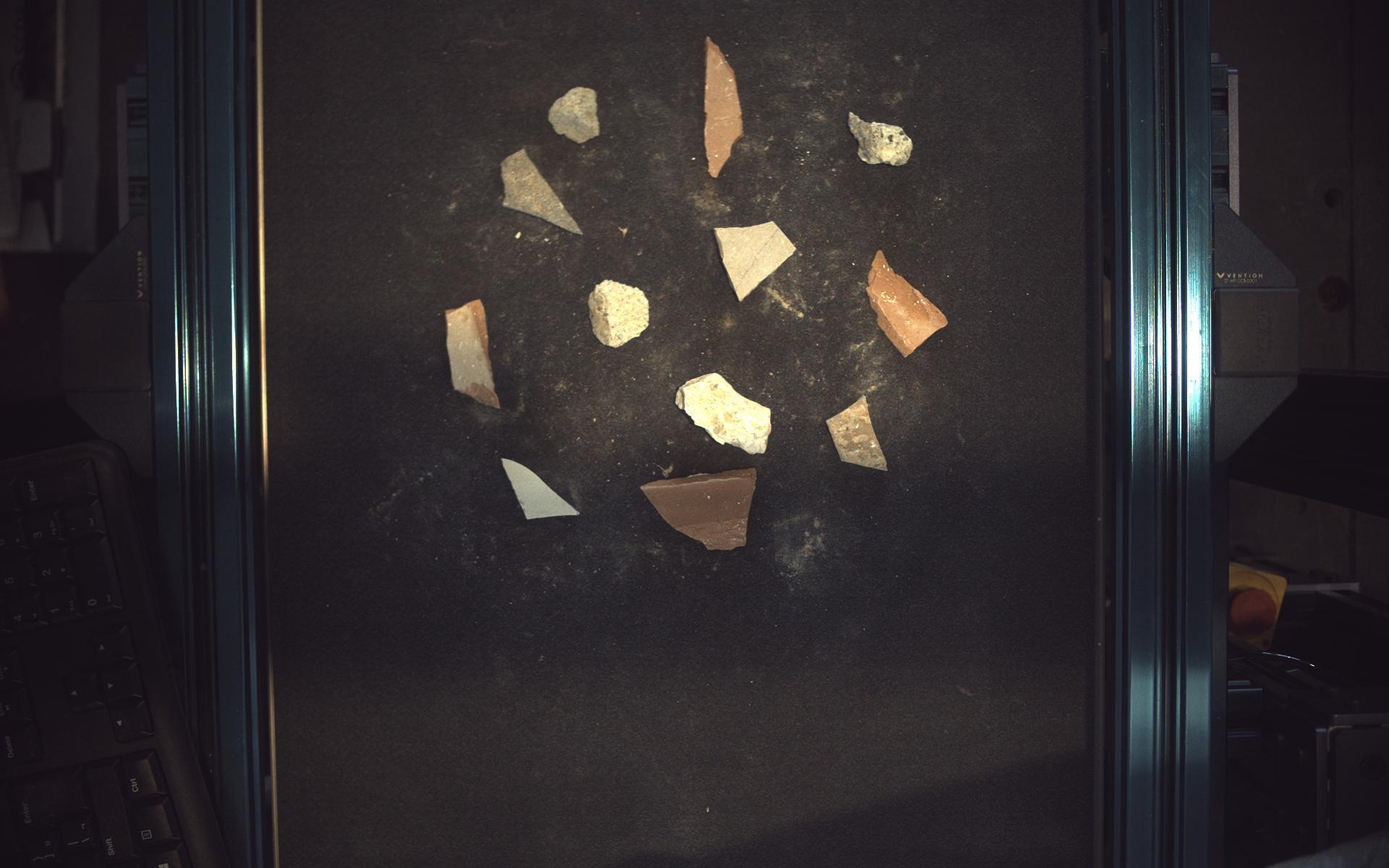brick: (642, 469, 757, 550), (868, 250, 950, 356), (445, 299, 501, 409), (705, 35, 744, 176)
concrete: (676, 373, 773, 454), (589, 279, 650, 347), (851, 111, 914, 165), (548, 85, 600, 142)
tile: (501, 148, 582, 234), (715, 221, 796, 301), (502, 458, 579, 520), (828, 396, 889, 471)
